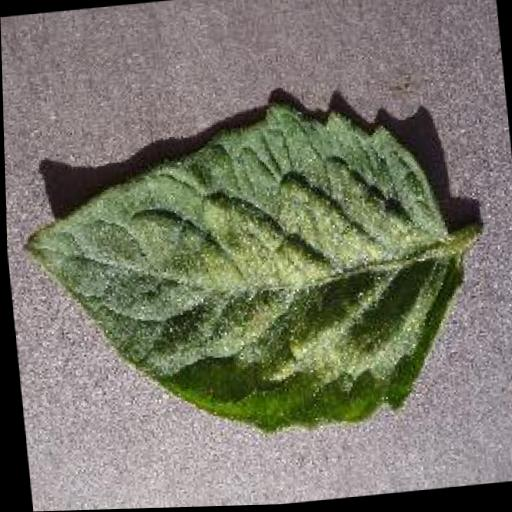Spider Mites: (10, 93, 473, 455)
